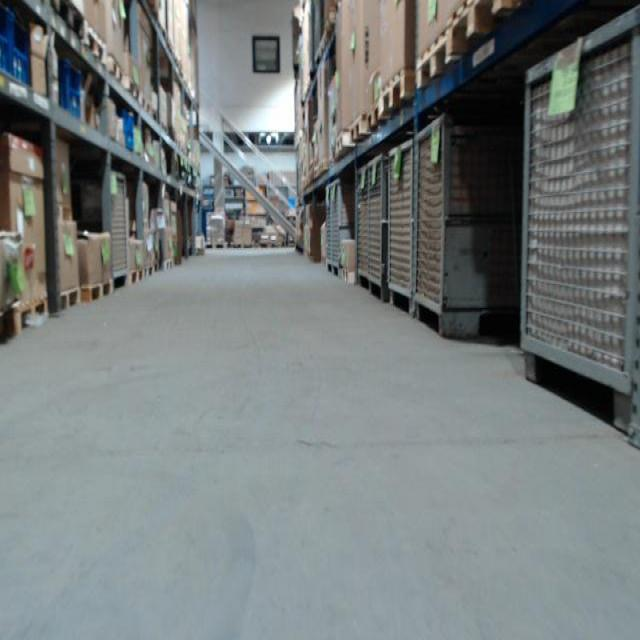pallet: (450, 0, 522, 65), (415, 26, 454, 93), (381, 67, 415, 124), (10, 298, 49, 336), (84, 30, 108, 67), (82, 281, 113, 301), (366, 99, 382, 137), (350, 114, 367, 146), (106, 54, 124, 84), (59, 288, 82, 311), (230, 239, 255, 251), (139, 94, 151, 113), (260, 240, 285, 249), (128, 269, 144, 283), (203, 243, 228, 251), (142, 266, 155, 279), (161, 259, 174, 270)
small_load_carrier: (58, 51, 84, 119), (13, 12, 34, 87), (3, 3, 14, 82), (120, 111, 137, 153)
stillage: (503, 6, 640, 439), (414, 113, 497, 341), (388, 130, 418, 318), (93, 168, 134, 287), (367, 148, 388, 302), (332, 175, 359, 283), (356, 164, 372, 287), (324, 181, 333, 277)
